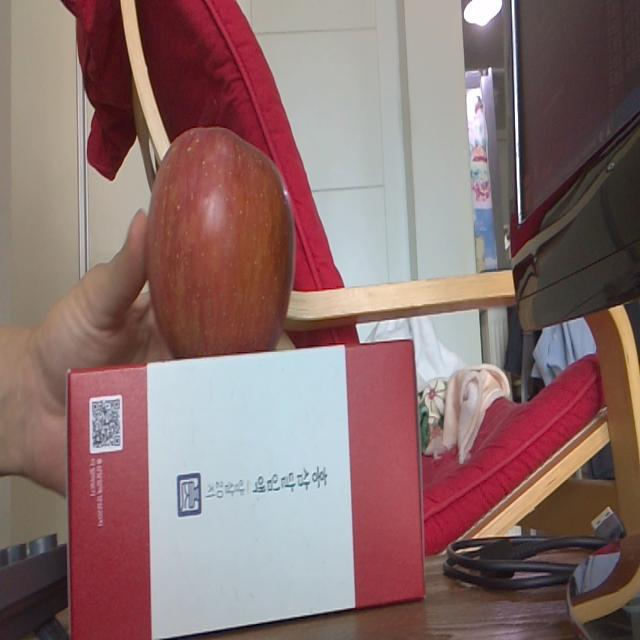apple: (147, 128, 296, 350)
